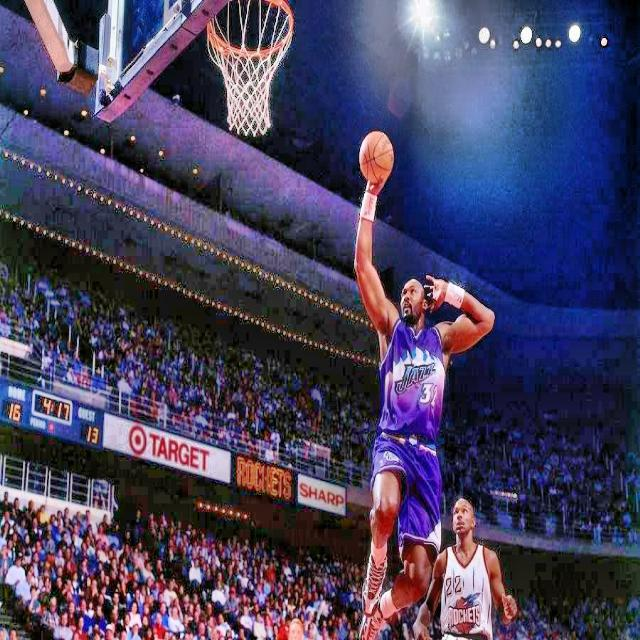board: (358, 132, 394, 185)
rim: (207, 0, 294, 135)
